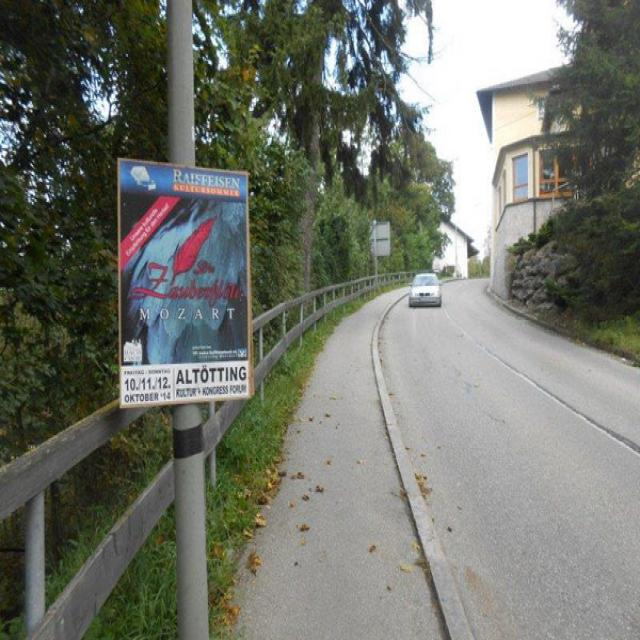Werbetafel frei: (118, 161, 250, 411)
